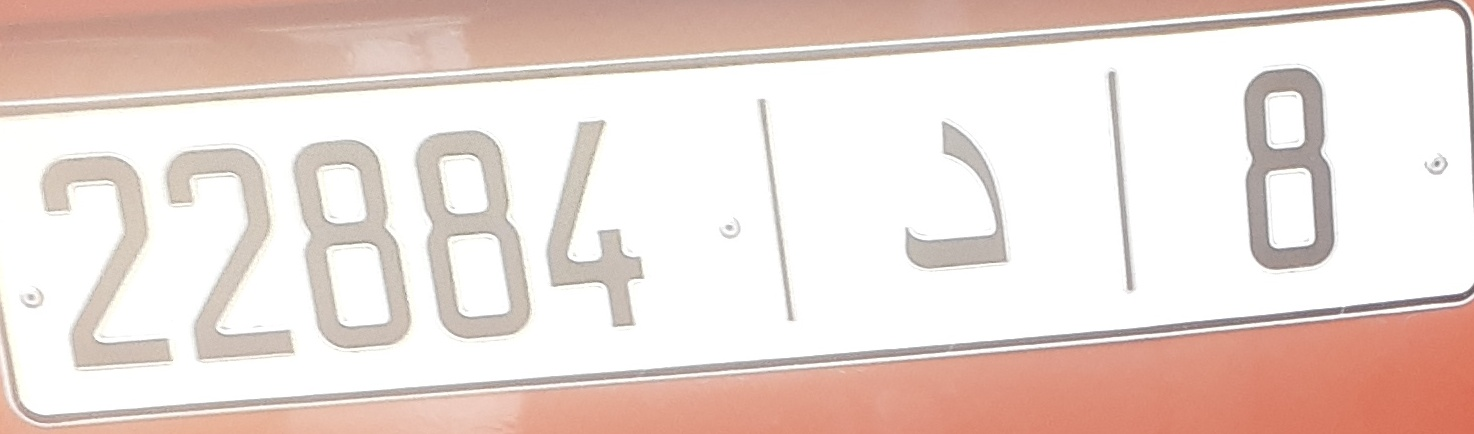2: (35, 148, 174, 380), (165, 143, 294, 367)
4: (541, 114, 654, 334)
8: (287, 133, 421, 350), (408, 122, 539, 341), (1231, 49, 1351, 279)
d: (892, 112, 1015, 275)
